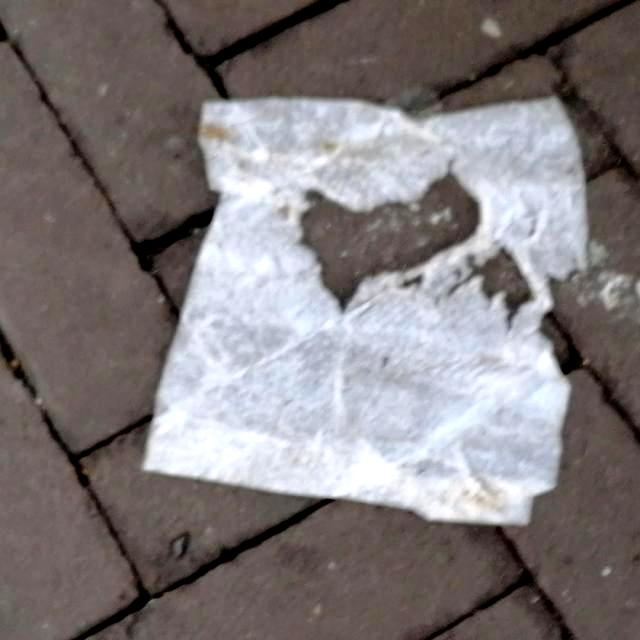Paper: (140, 94, 592, 526)
